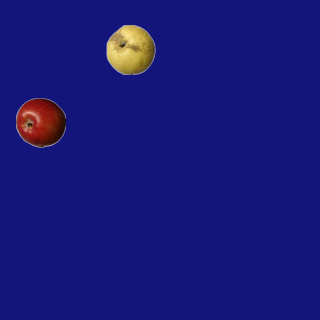Apple Braeburn: (15, 97, 65, 147)
Apple Golden 1: (105, 24, 155, 74)
